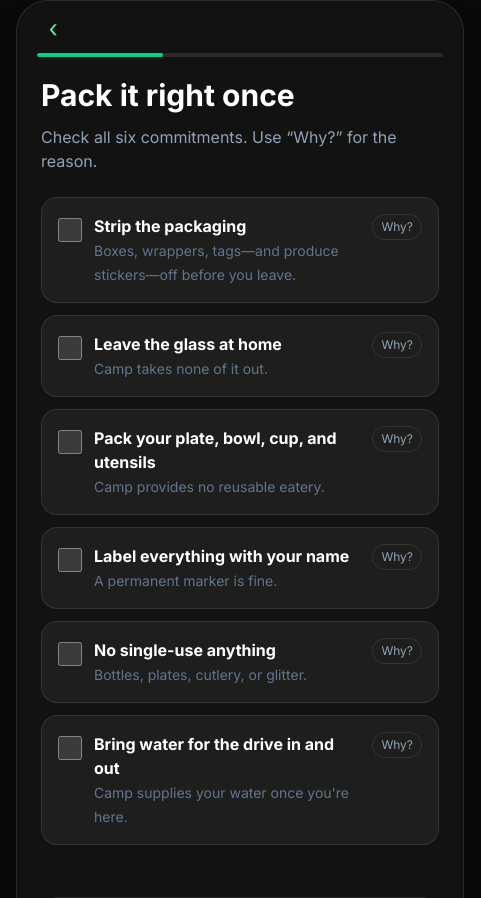
Test case: LntModuleRunner › requires every packing commitment
Click the checkbox named "Strip the packaging": (70, 230) [58, 218, 82, 242]
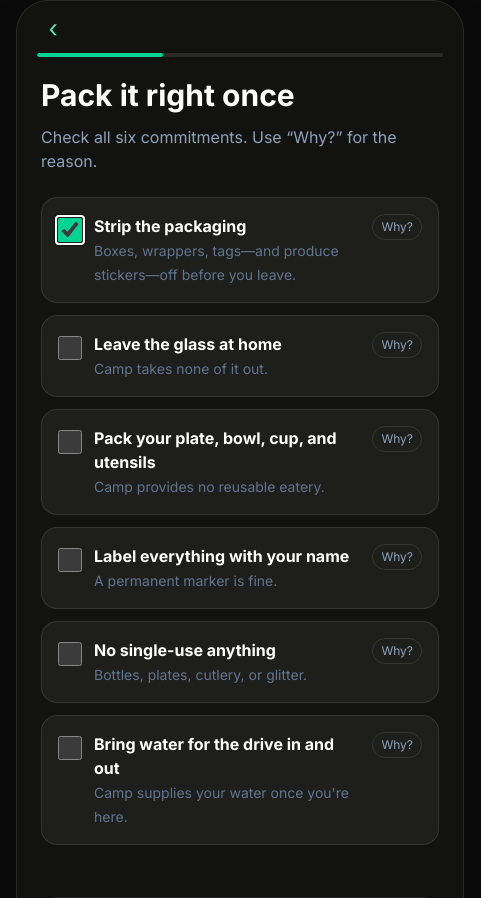
Click the checkbox labelled "Leave the glass at home Camp takes none of it out.": (70, 348) [58, 336, 82, 360]
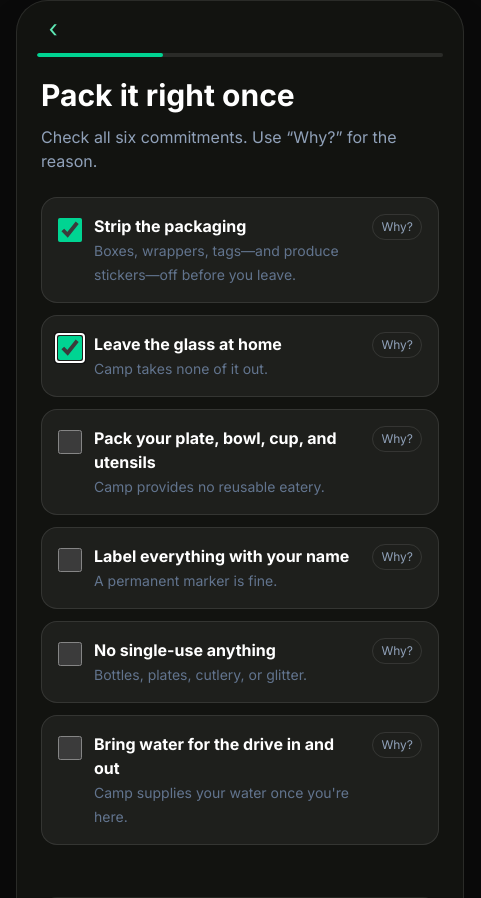
Click the checkbox named "Pack your plate, bowl, cup, and utensils": (70, 442) [58, 430, 82, 454]
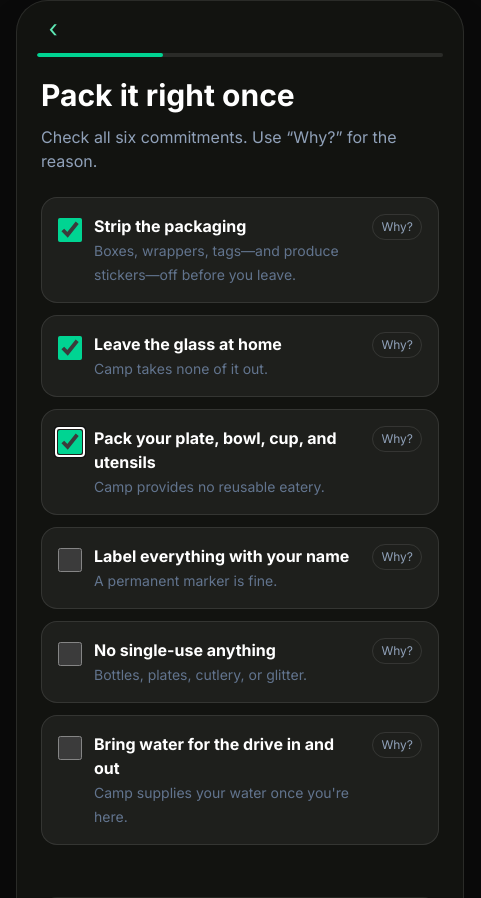
Click the checkbox labelled "Label everything with your name A permanent marker is fine.": (70, 560) [58, 548, 82, 572]
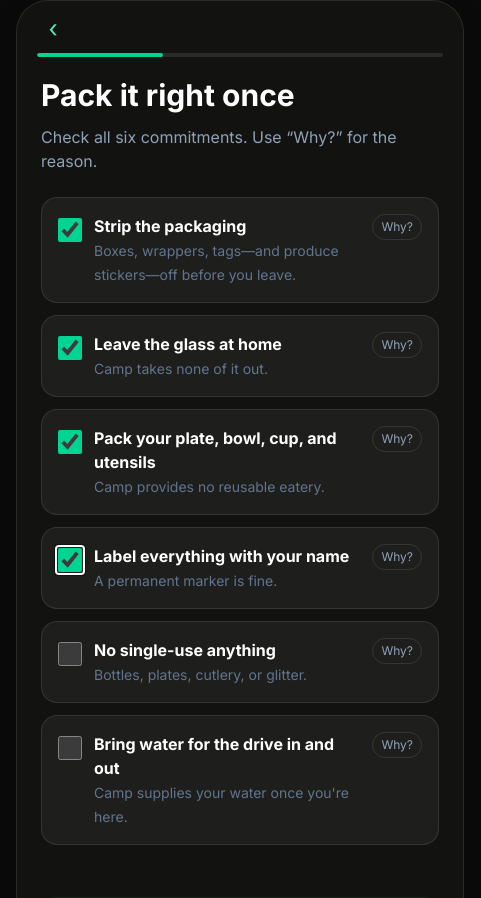
Click the checkbox labelled "No single-use anything Bottles, plates, cutlery, or glitter.": (70, 654) [58, 642, 82, 666]
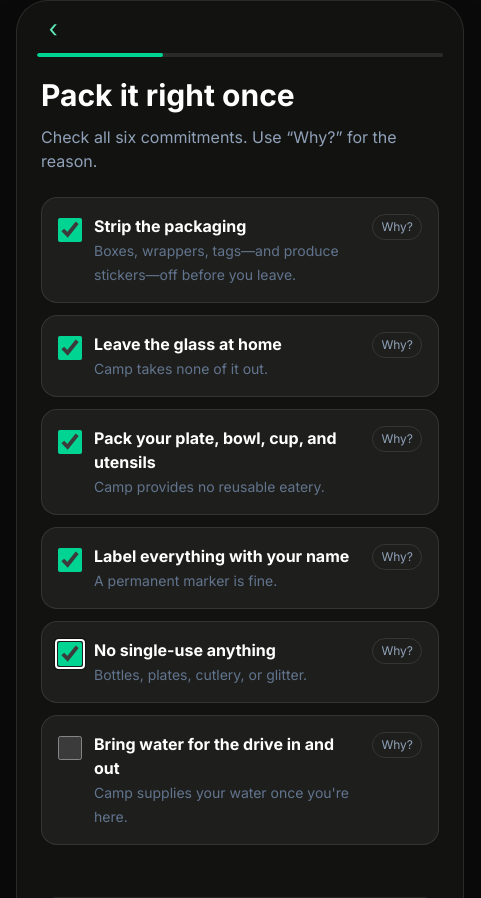
Click the checkbox named "Bring water for the drive in and out": (70, 748) [58, 736, 82, 760]
(page scrolled)
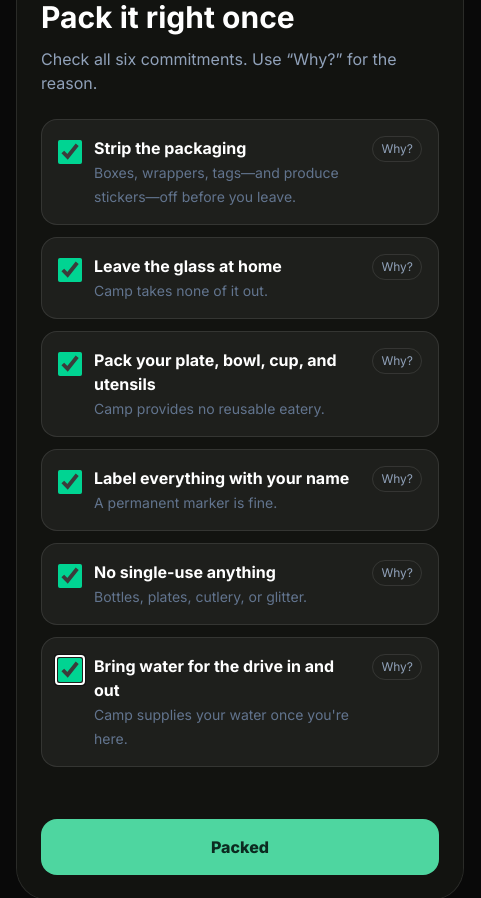
Expected: the button "Packed" is enabled, [41, 819, 439, 875]
